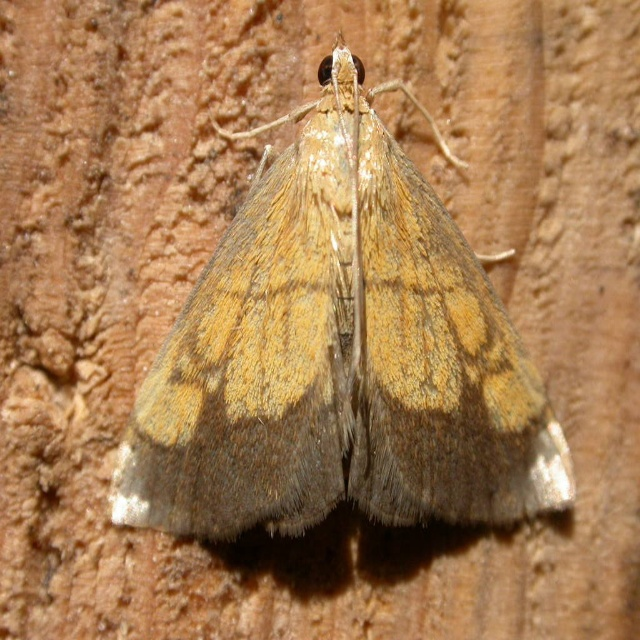Butterfly: (183, 20, 545, 523)
